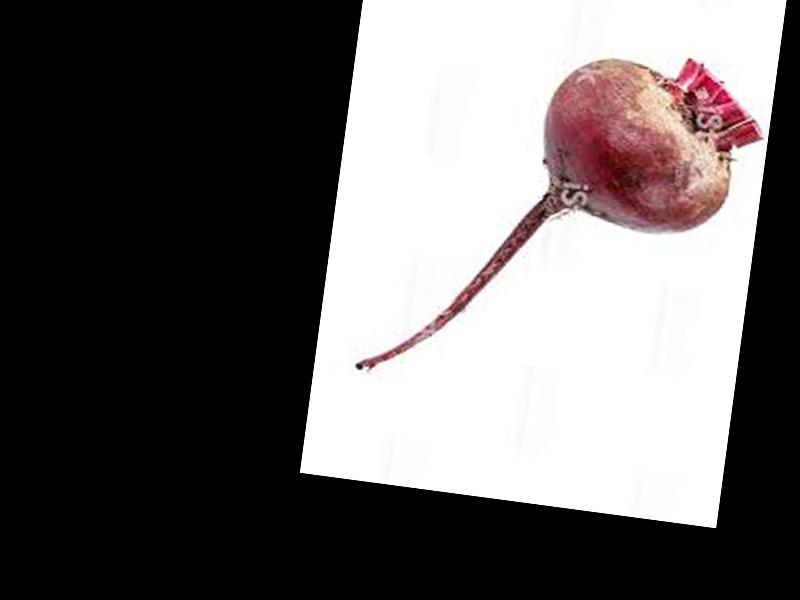Beet: (357, 22, 772, 418)
